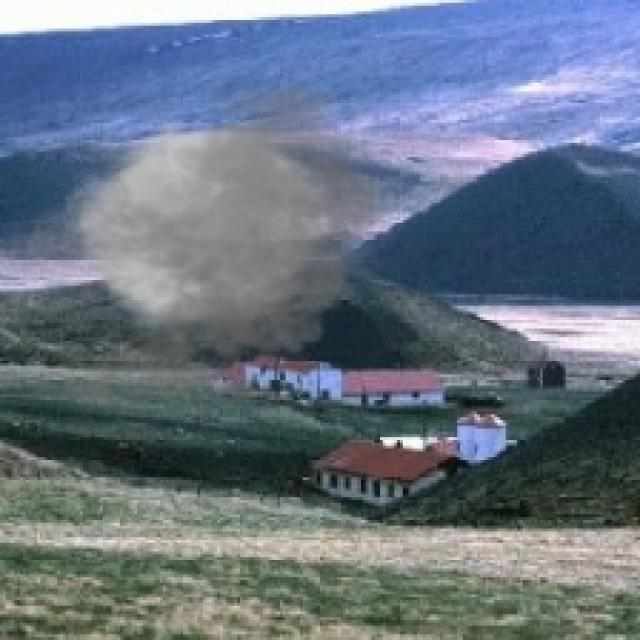smoke: (3, 68, 408, 423)
